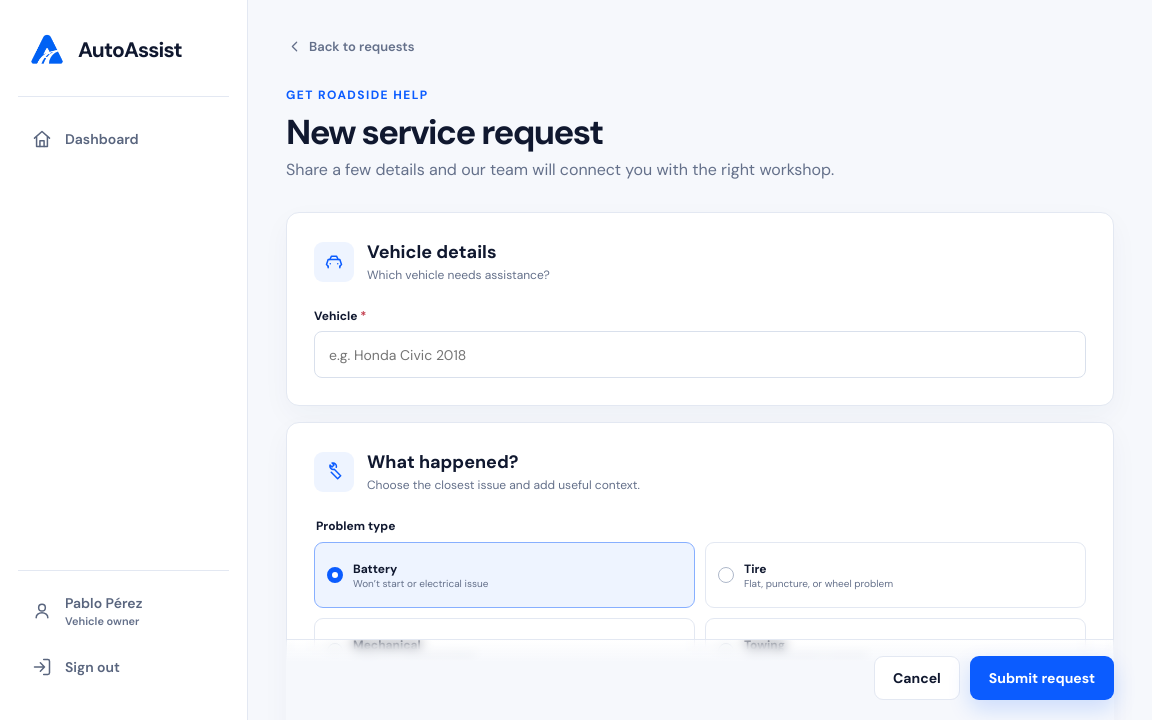
Test: Phase 4 frontend › validates and submits a new service request once
Check: the heading "New service request" is shown, box 286,110 -> 602,155
Click the button "Submit request" at point(1042, 678), box 970,656 -> 1114,700
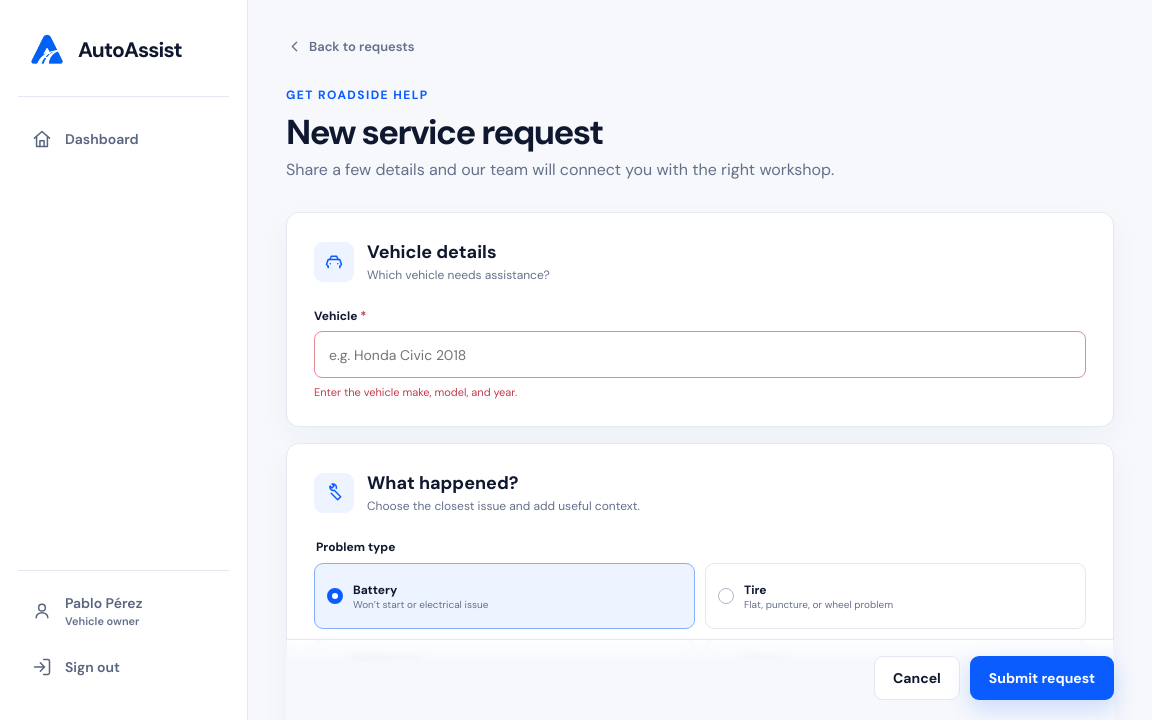
Check: the text "Enter the vehicle make, model, and year." is shown, box 314,385 -> 517,399
Type "Honda Civic 2018" into the field labelled "Vehicle * Enter the vehicle make, model, and year." at point(700, 354), box 314,331 -> 1086,378
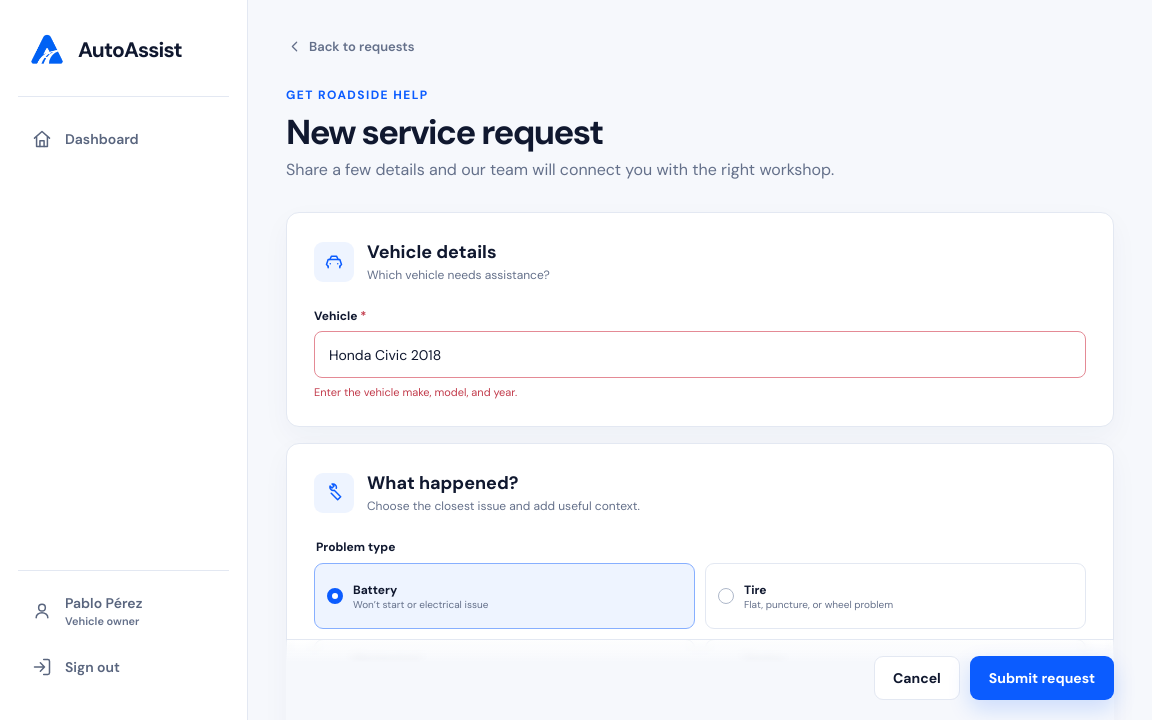
Click the radio button labelled "Tire Flat, puncture, or wheel problem" at point(896, 596), box 705,563 -> 1086,629
(page scrolled)
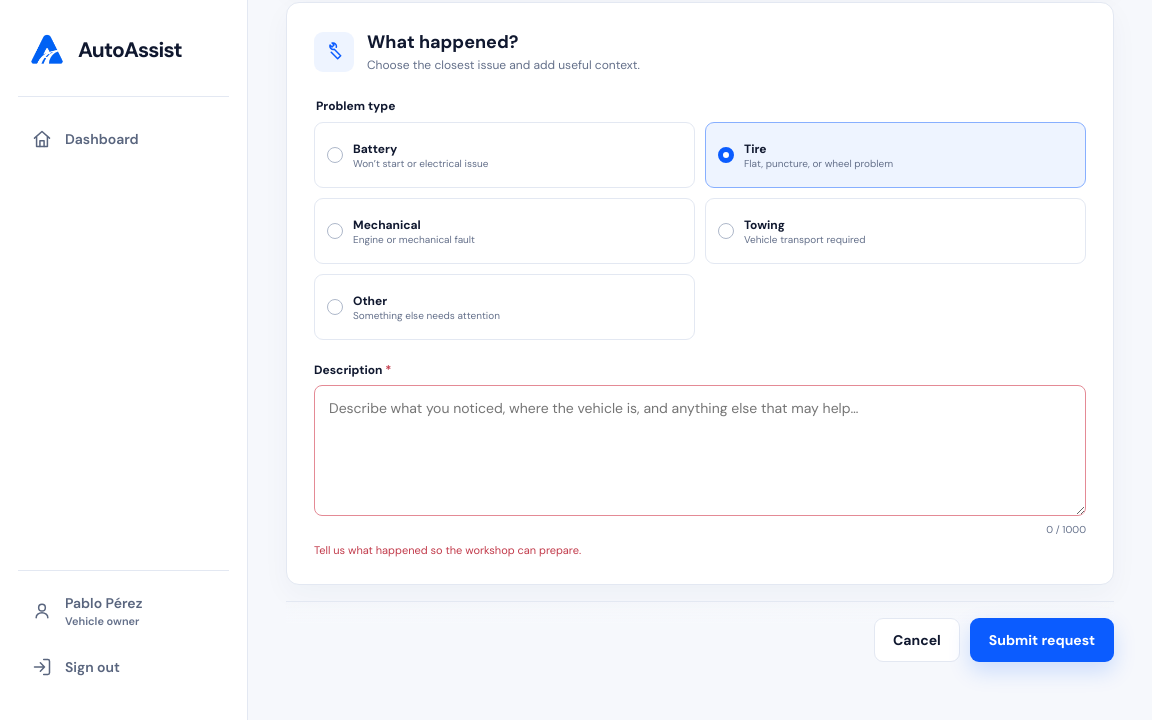
Replace the text in the text box labelled "Description *" with "Flat tire on the front left wheel" at point(700, 450), box 314,385 -> 1086,516
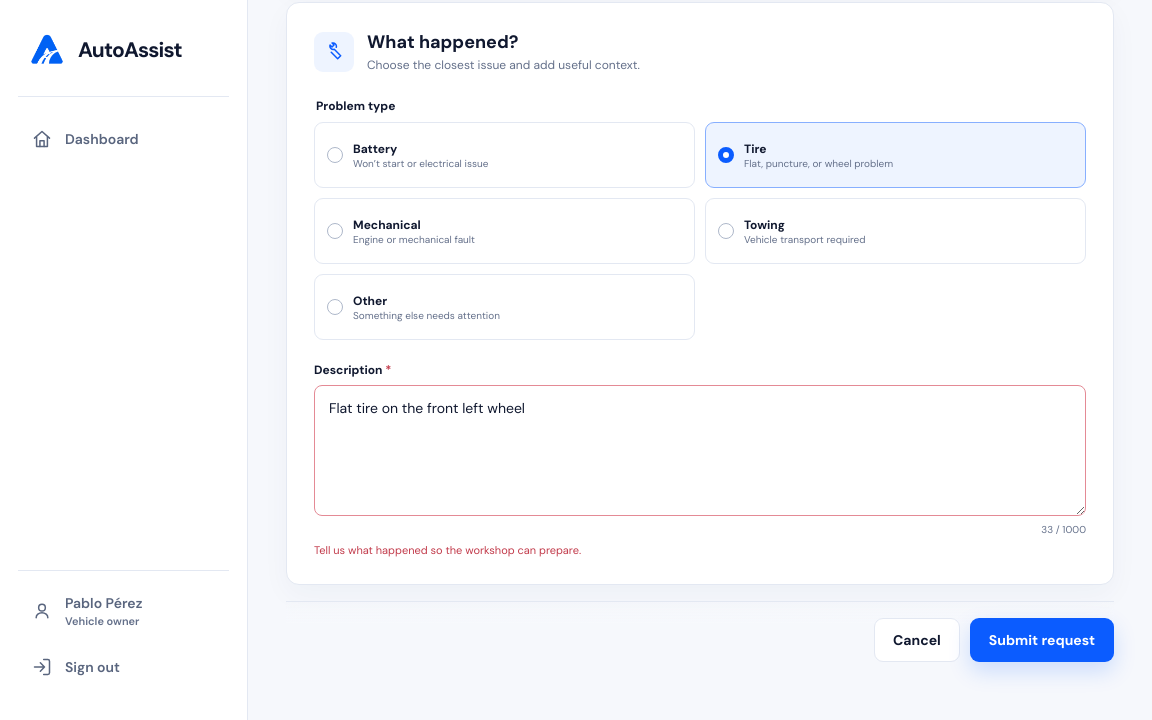
Click the button "Submit request" at point(1042, 640), box 970,618 -> 1114,662
(page scrolled)
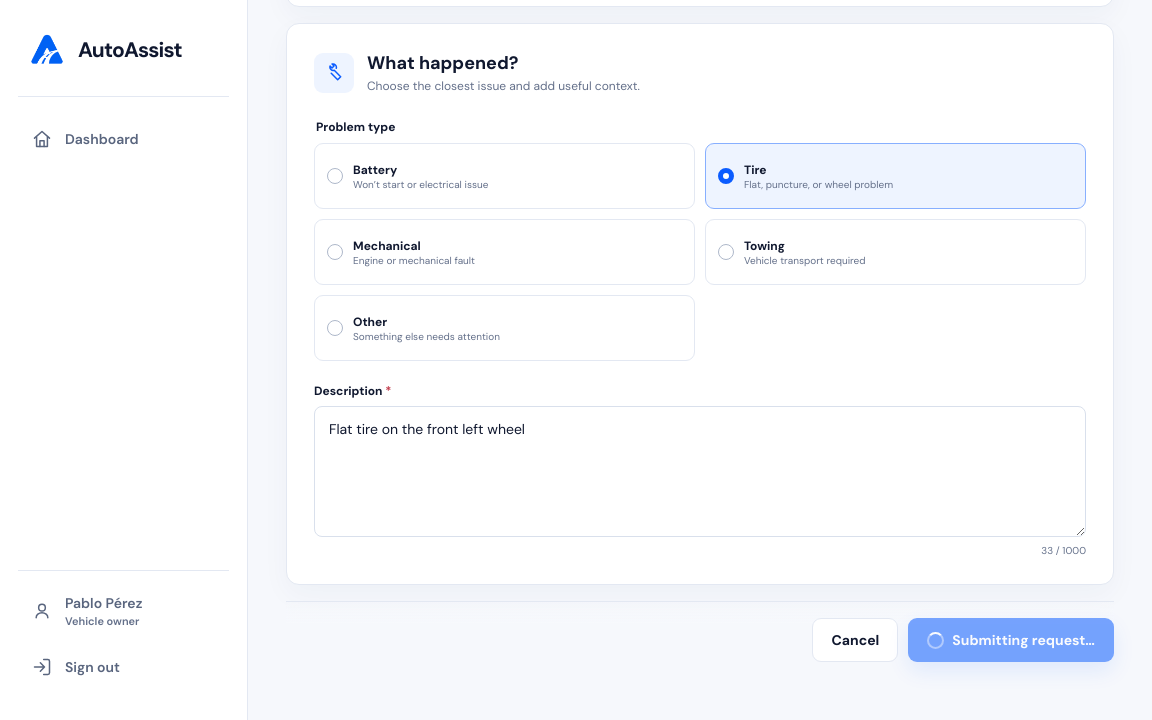
Click the button "Submitting request…" at point(1011, 640), box 908,618 -> 1114,662
(page scrolled)
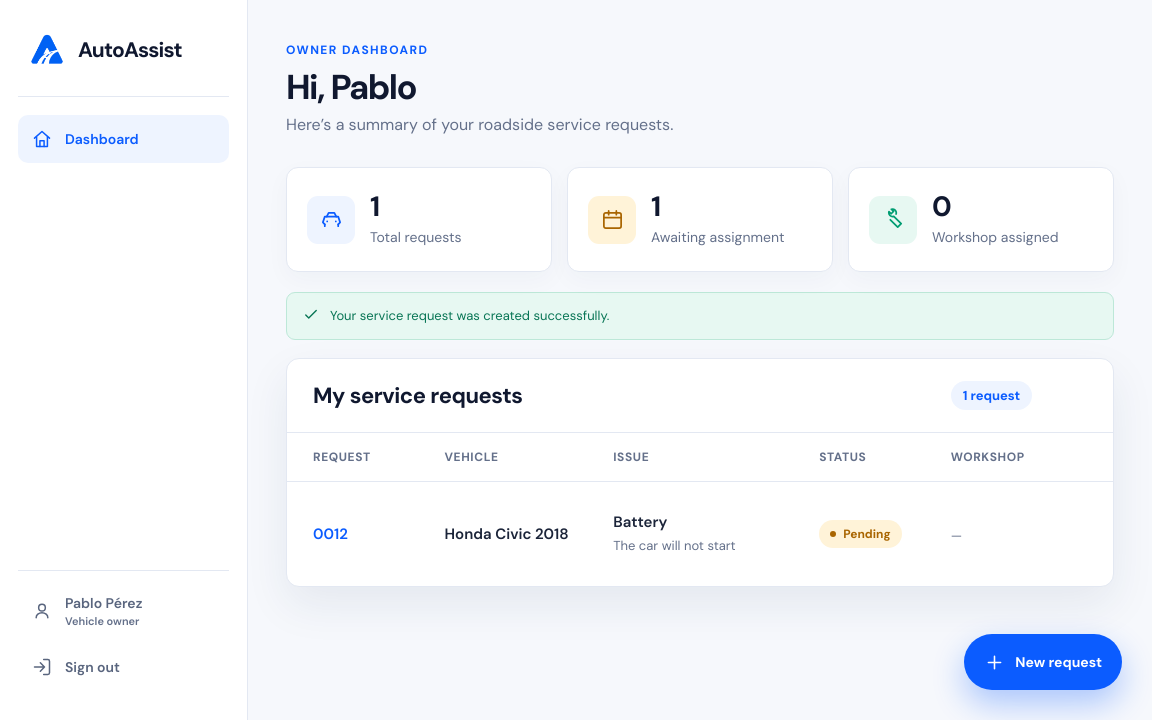
Check: the text "Your service request was created successfully." is shown, box 330,306 -> 609,326
